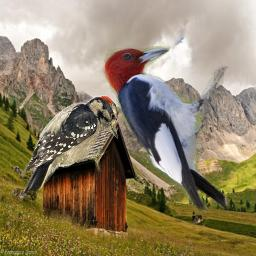Woodpecker: (100, 41, 234, 216), (14, 94, 118, 198)
